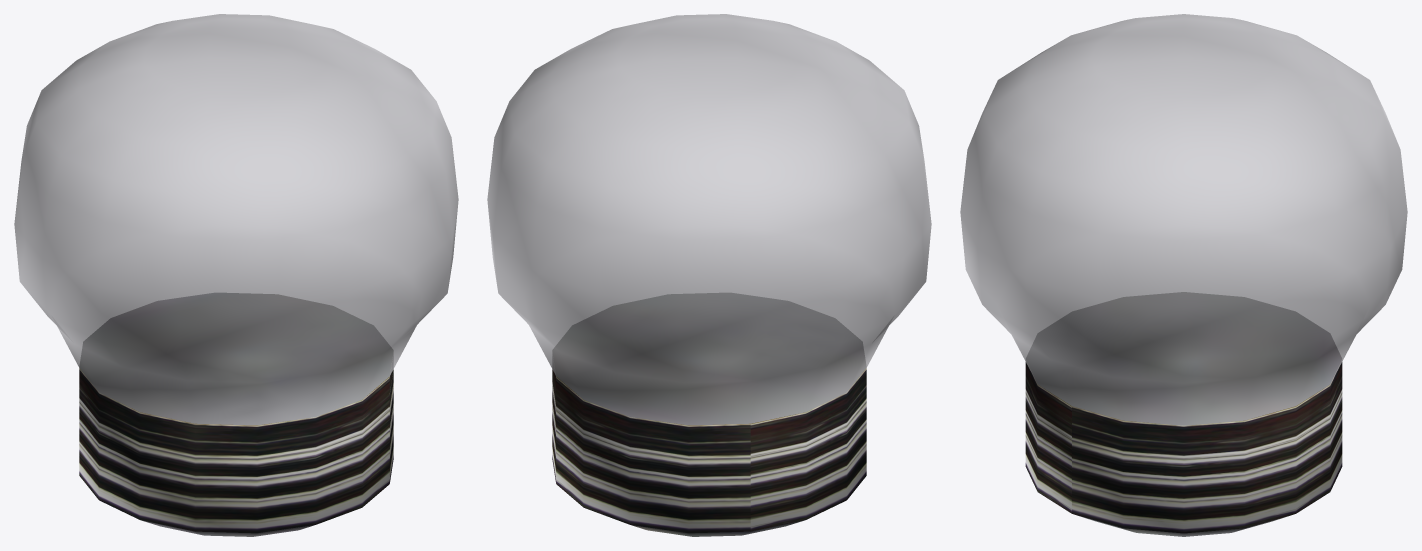
File: light.gltf
3 renders of one model, left to right at view 1: azimuth 30°, elevation 25°; view 2: azimuth 150°, elevation 25°; view 3: azimuth 270°, elevation 25°, orthographic.
Visible parts, largest first — view 1: Plane; view 2: Plane; view 3: Plane.
Boxes of the visible parts, bbox=[...] form: Plane: bbox=[14, 14, 458, 536]; Plane: bbox=[487, 14, 931, 536]; Plane: bbox=[960, 14, 1407, 536].
Bounding box in the file's own units: 0.1755 × 0.1923 × 0.1755.
Materials: 1 (1 with a texture image).
